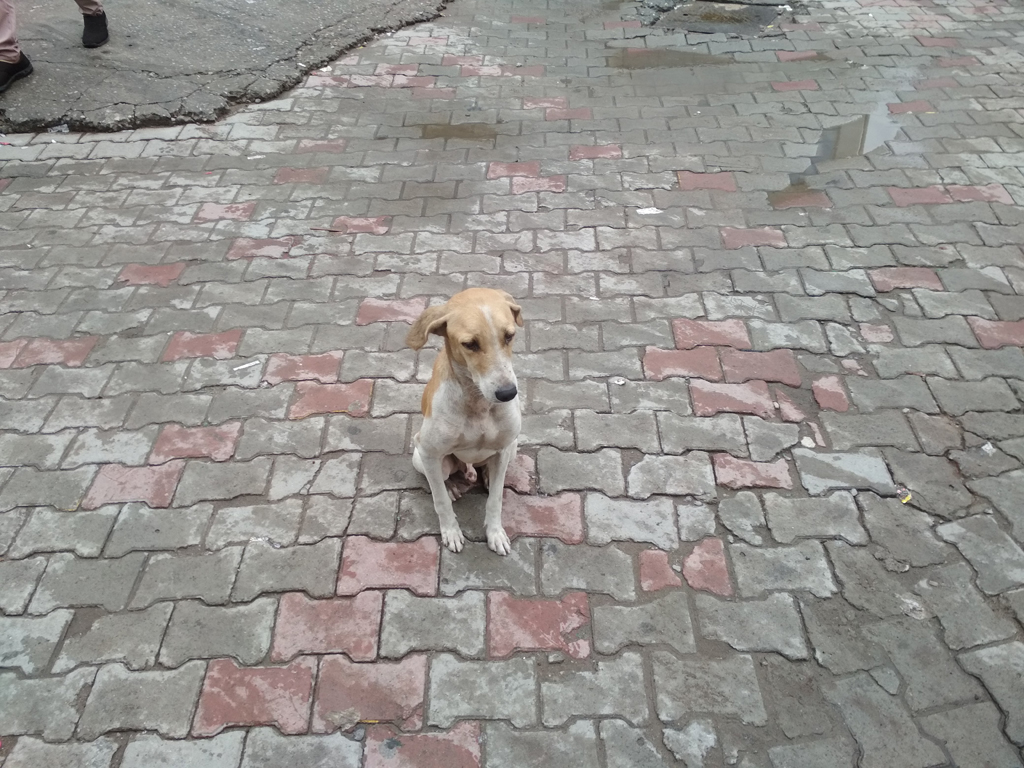dog: (404, 287, 528, 556)
